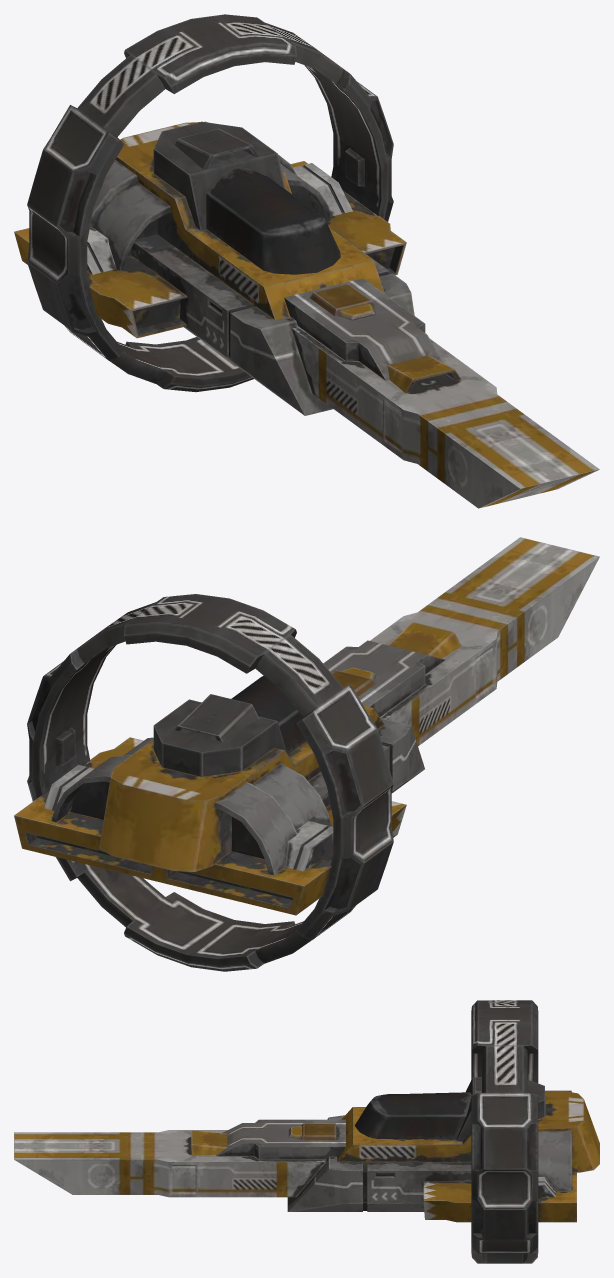
Rendered from Zenith.glb.
3 views of the same model, one above another, from view 1: azimuth 30°, elevation 25°; view 2: azimuth 150°, elevation 25°; view 3: azimuth 270°, elevation 25° (orthographic). The views are drawn at different scales.
Parts seen in each view (by area): view 1: Zenith; view 2: Zenith; view 3: Zenith.
Part boxes in pixels (box(x1,y1,x2,y2)): Zenith: box(14, 14, 599, 508); Zenith: box(14, 537, 599, 971); Zenith: box(14, 1000, 599, 1263).
Size of the model in its own units: 5.63 by 5.43 by 12.07.
1 material, 1 textured.
